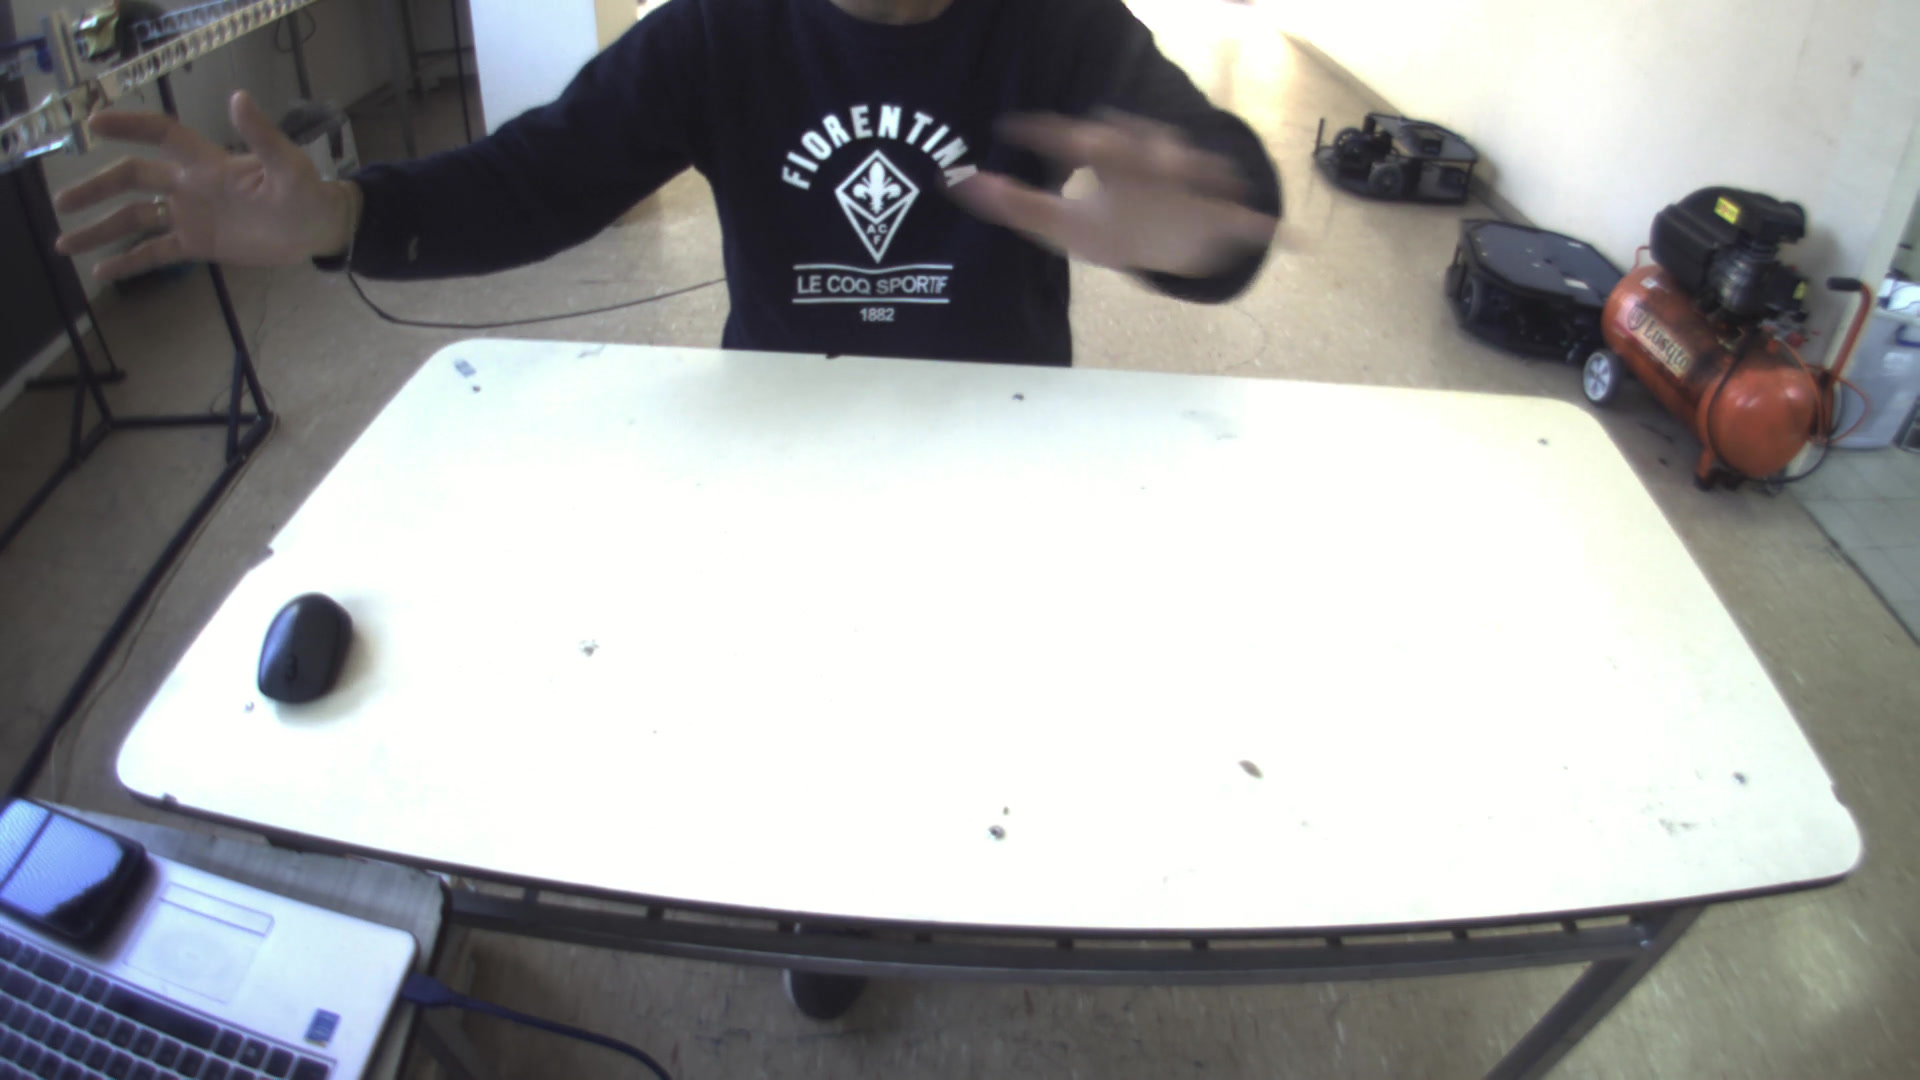hand: (30, 75, 357, 286), (949, 88, 1284, 284)
